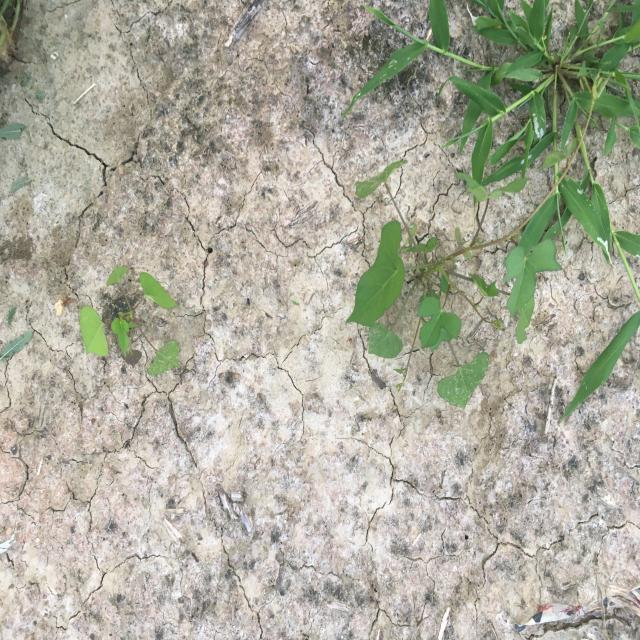MorningGlory: (343, 70, 613, 411), (79, 262, 186, 379)
